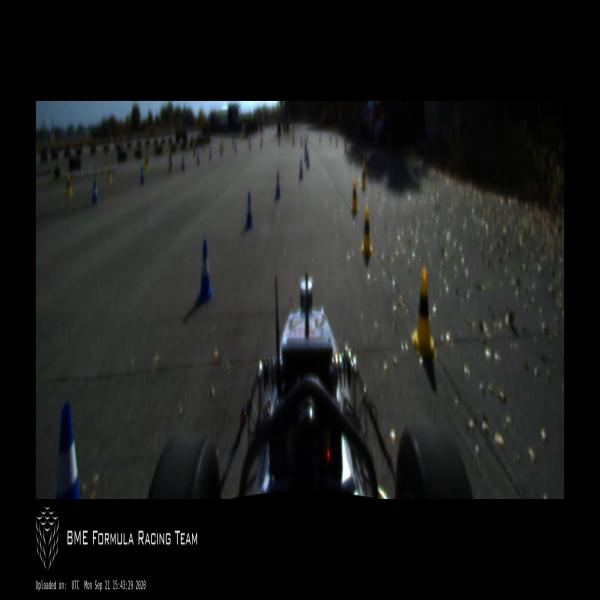blue_cone: (55, 403, 80, 498), (196, 238, 214, 304), (245, 192, 253, 229), (275, 172, 281, 199), (92, 180, 98, 202), (139, 167, 145, 186), (299, 159, 303, 180), (181, 156, 185, 172), (306, 151, 309, 169), (305, 146, 308, 162), (196, 153, 200, 164), (220, 145, 223, 155), (234, 143, 237, 153), (300, 138, 303, 146), (209, 148, 211, 158), (249, 141, 251, 150), (292, 136, 294, 145), (278, 138, 280, 146), (260, 139, 262, 147)
yellow_cone: (411, 268, 437, 361), (361, 206, 373, 256), (350, 180, 358, 214), (361, 165, 367, 191), (66, 174, 72, 198), (107, 164, 112, 182), (366, 156, 370, 176), (360, 148, 364, 165), (351, 143, 353, 158), (344, 142, 347, 152), (329, 135, 332, 144), (144, 159, 146, 172), (335, 139, 338, 147), (319, 134, 321, 143), (306, 132, 308, 141)
